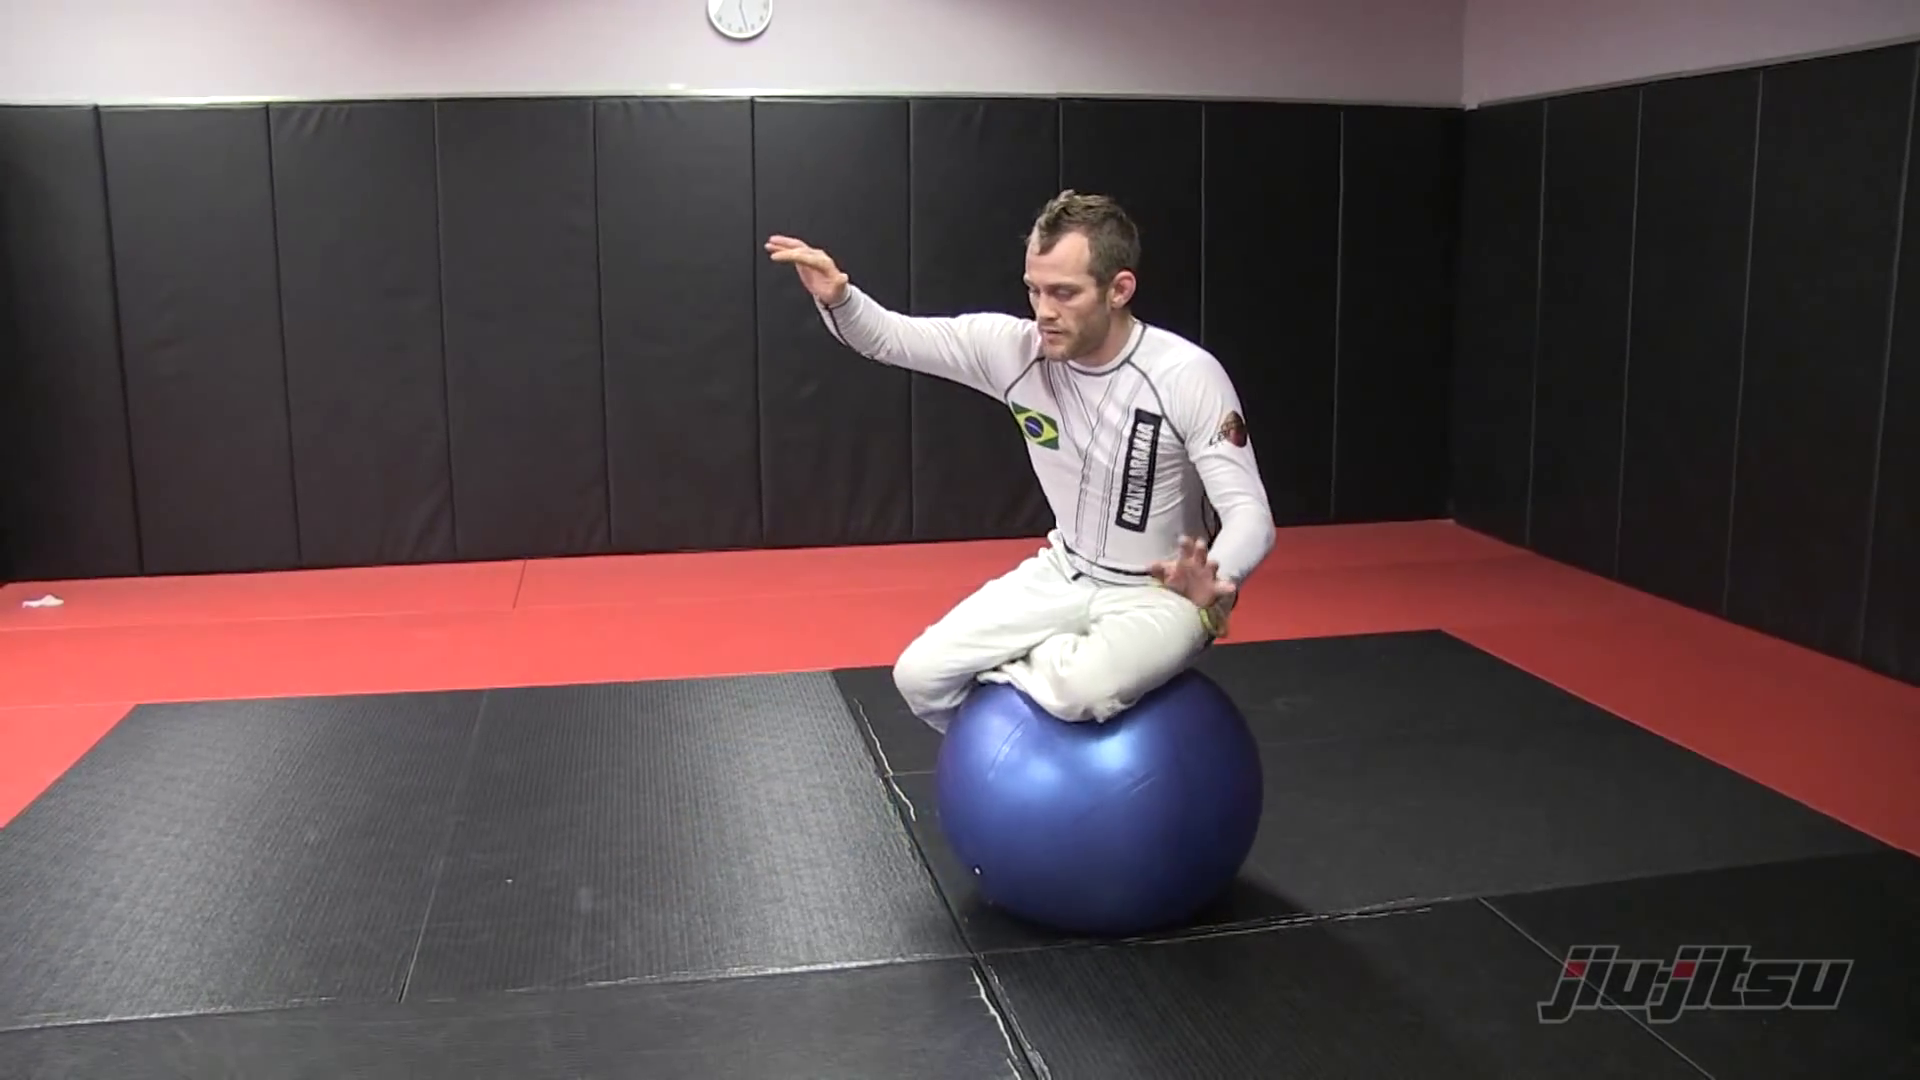yogaball: (935, 659, 1270, 951)
